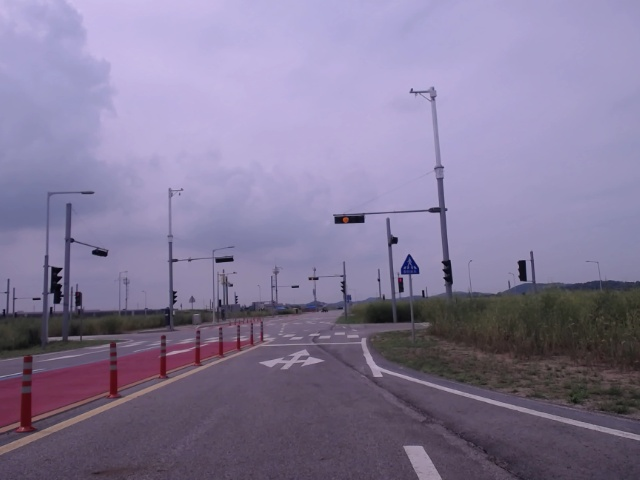orange_4: (331, 213, 368, 227), (308, 276, 321, 281)
